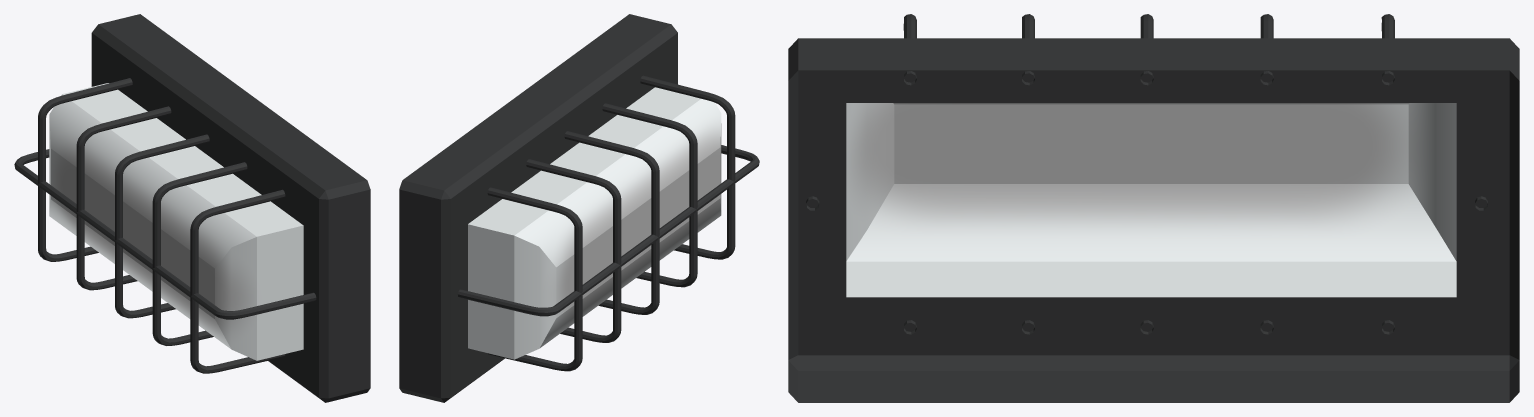
File: Light.fbx
3 views of the same model, side by side, from view 1: azimuth 30°, elevation 25°; view 2: azimuth 150°, elevation 25°; view 3: azimuth 270°, elevation 25° (orthographic). The views are drawn at different scales.
Visible parts, largest first — view 1: Light_Box, Tiny_Light_Bars; view 2: Light_Box, Tiny_Light_Bars; view 3: Light_Box, Tiny_Light_Bars.
Boxes of the visible parts, x1=… form: Light_Box: x1=49, y1=14, x2=370, y2=402; Tiny_Light_Bars: x1=14, y1=78, x2=316, y2=373; Light_Box: x1=399, y1=14, x2=721, y2=402; Tiny_Light_Bars: x1=458, y1=75, x2=759, y2=371; Light_Box: x1=788, y1=38, x2=1519, y2=402; Tiny_Light_Bars: x1=806, y1=14, x2=1487, y2=334.
Bounding box in the file's own units: 0.2133 × 0.3075 × 0.6126.
